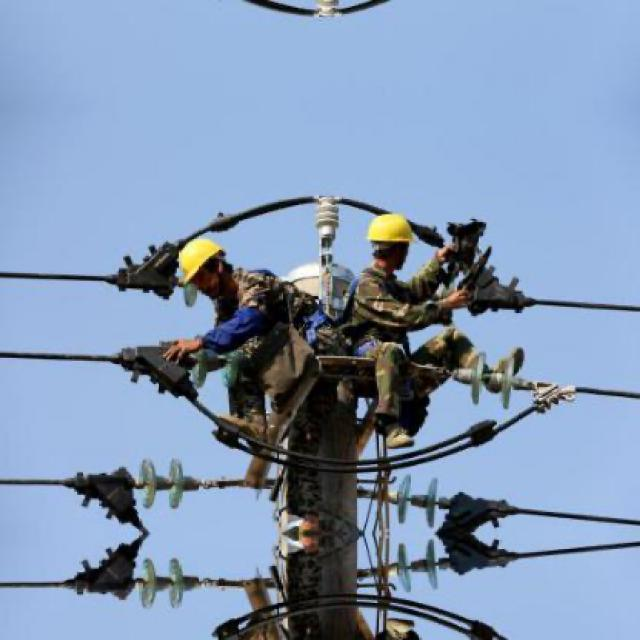helmet: (174, 235, 234, 296), (361, 208, 417, 268)
